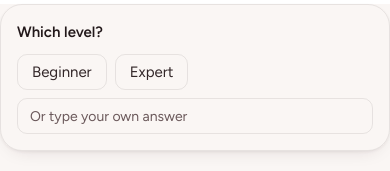
questions block › one question: a tap sends that option as the next message
Click the button "Expert" at (152, 72), box [115, 54, 188, 90]
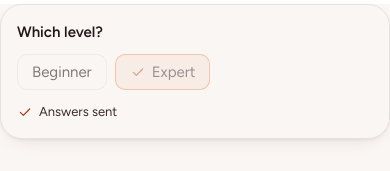
Expected: the text "Answers sent" is shown, [17, 104, 117, 120]
